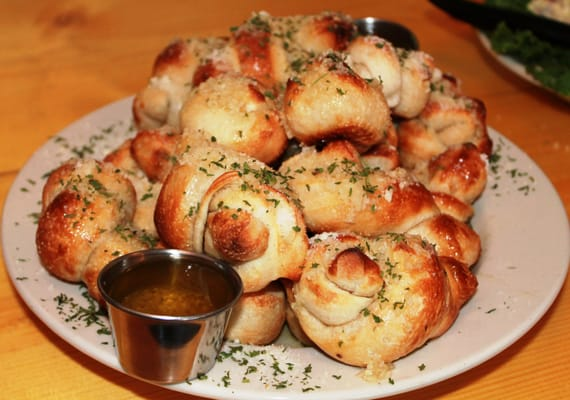pizza: (95, 249, 244, 386)
